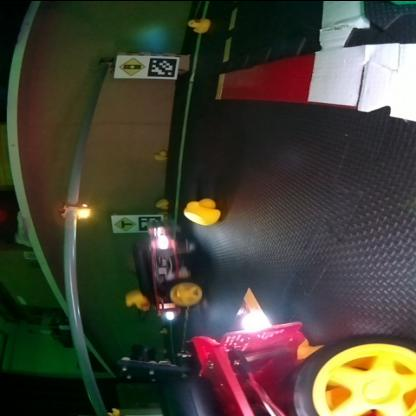Duckie: (183, 197, 219, 224), (124, 290, 149, 308), (186, 16, 210, 32), (152, 150, 166, 160), (155, 198, 168, 208)
Duckiebot: (149, 319, 407, 415), (132, 224, 202, 318)
Intersection sign: (112, 214, 134, 231)
QR code: (148, 54, 176, 76), (138, 214, 160, 231)
Signal sign: (117, 54, 145, 76)
Traffic light: (60, 202, 91, 218)
